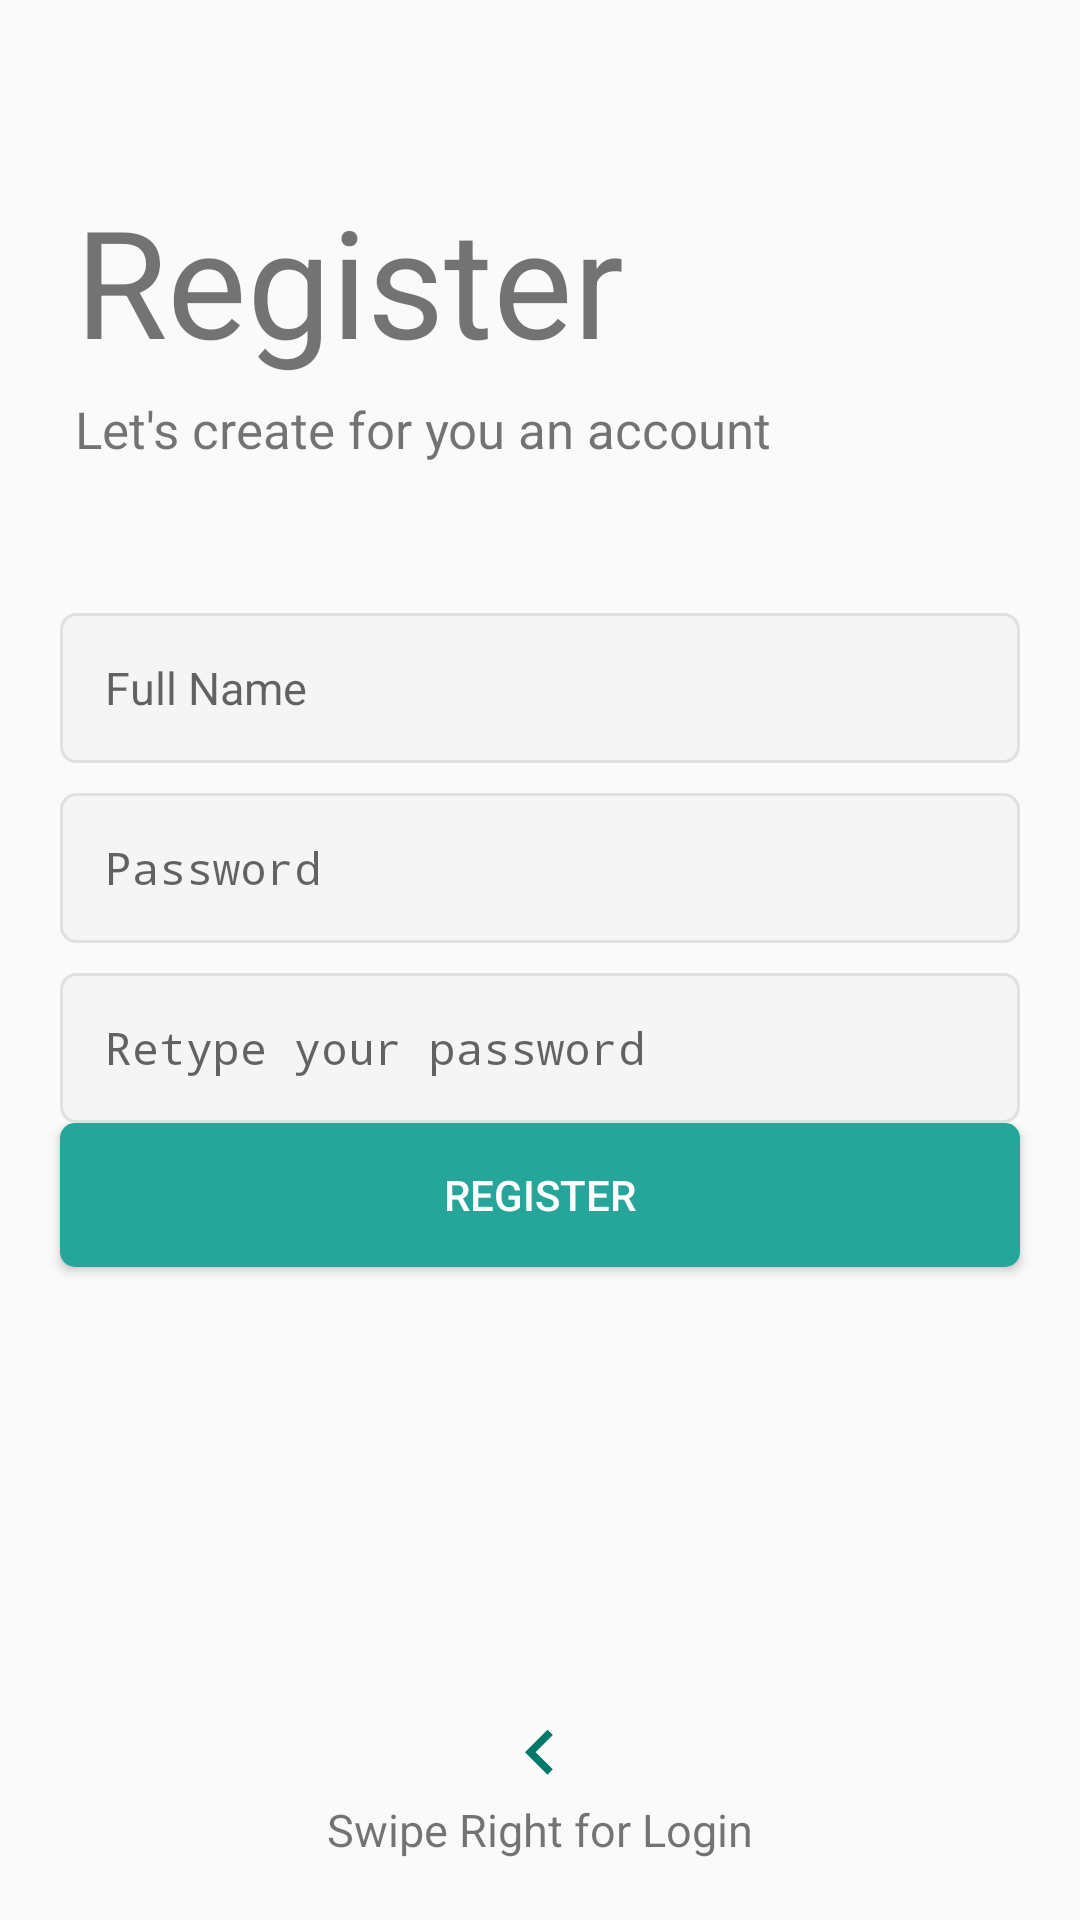

Screen size 1080 x 1920. Icon name, then its box in pixels as (x1, y1, x2, y2):
arrow left: (525, 1730, 553, 1775)
